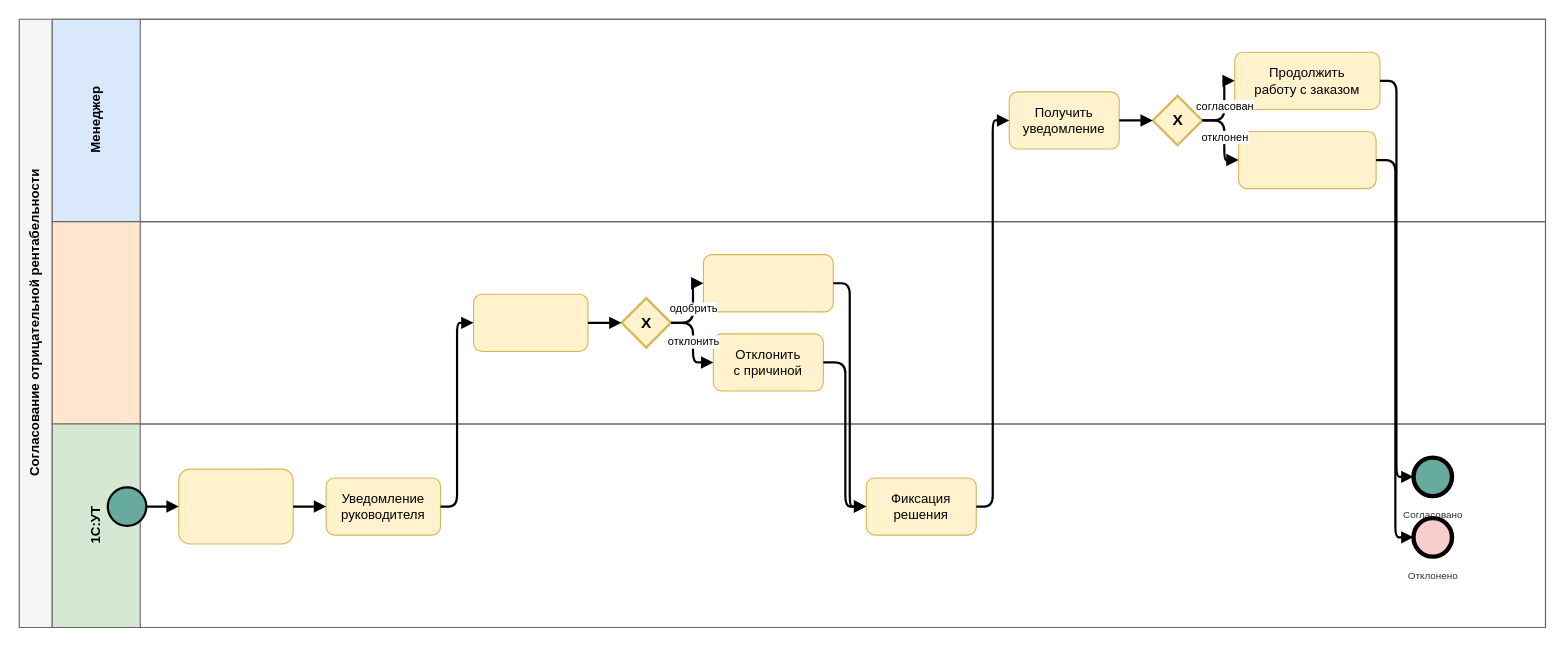
This 1565x647 diagram has some shape labels left out. Here are the shapes that lost their labels. From the top down, the box of each, then its label:
(1238, 130, 1376, 189): Скорректировать заказ
(702, 254, 833, 312): Согласовать с комментарием
(472, 293, 588, 351): Рассмотрение заказа
(51, 221, 1546, 424): Руководитель отдела продаж
(178, 468, 293, 544): Формирование запроса на согласование
